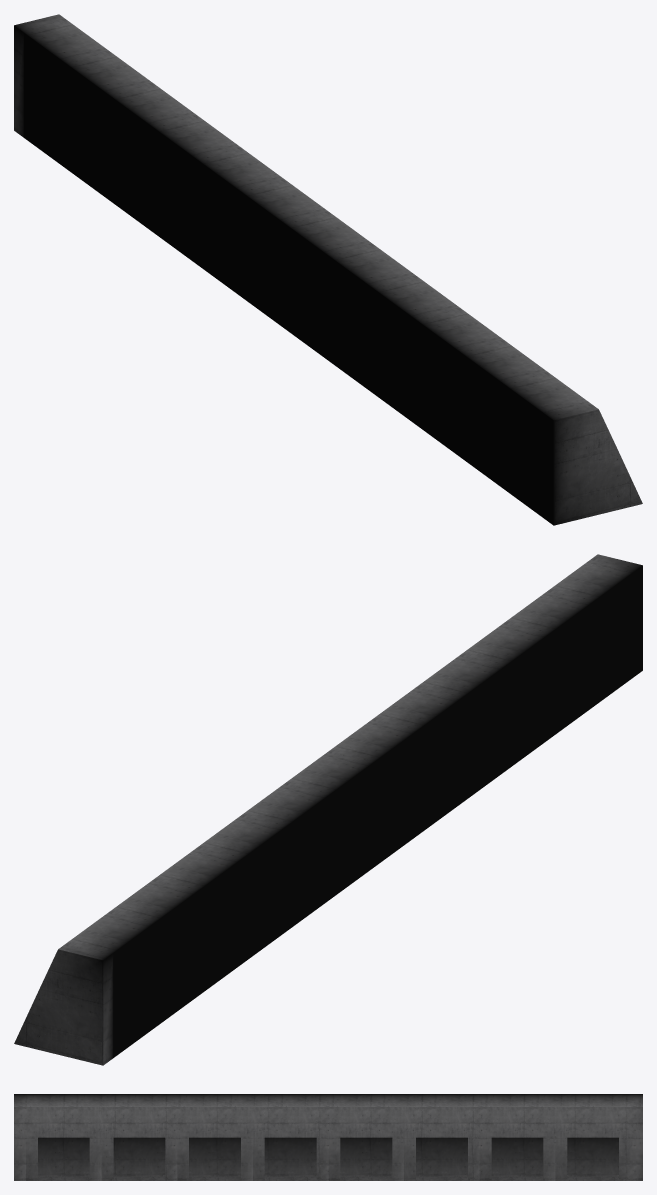
3 views of the same model, one above another, from view 1: azimuth 30°, elevation 25°; view 2: azimuth 150°, elevation 25°; view 3: azimuth 270°, elevation 25° (orthographic). The views are drawn at different scales.
Parts seen in each view (by area): view 1: obj4; view 2: obj4; view 3: obj4.
Boxes of the visible parts, bbox=[...] form: obj4: bbox=[14, 14, 642, 525]; obj4: bbox=[14, 554, 642, 1065]; obj4: bbox=[14, 1094, 642, 1180].
Bounding box in the file's own units: 9.92 × 11.19 × 104.
1 material, 1 textured.
